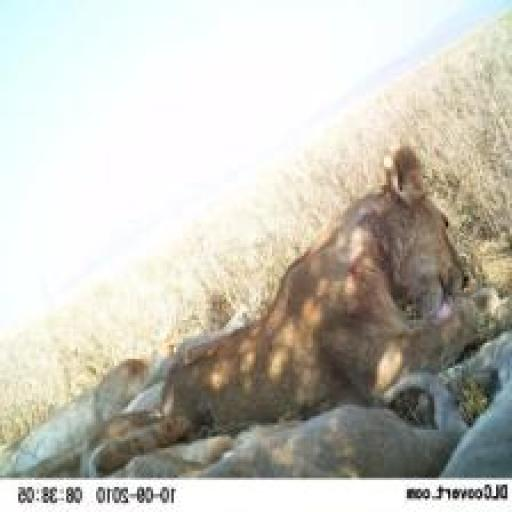lion: (23, 140, 505, 482)
